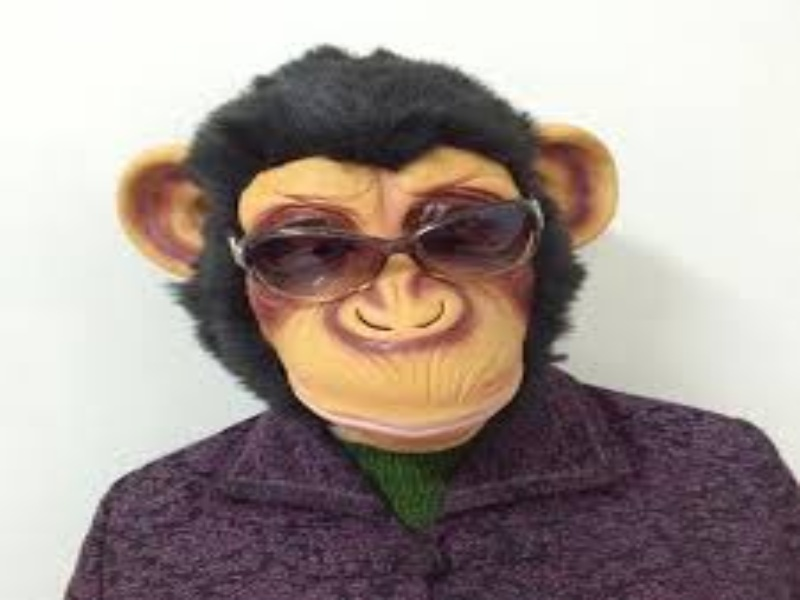monkey: (34, 5, 800, 600)
